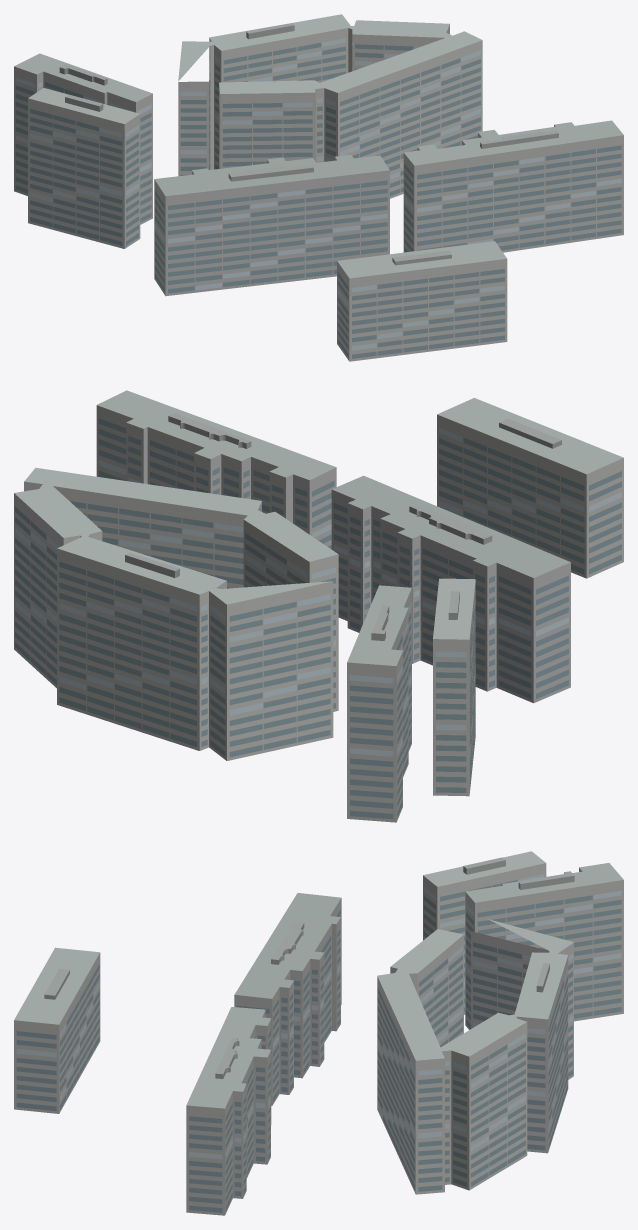
File: apt-a13607301.glb
The picture shows the model from 3 angles, top to bottom: view 1: azimuth 30°, elevation 25°; view 2: azimuth 150°, elevation 25°; view 3: azimuth 270°, elevation 25°; orthographic projection. The views are drawn at different scales.
Parts seen in each view (by area): view 1: apt-a13607301; view 2: apt-a13607301; view 3: apt-a13607301.
Boxes of the visible parts, x1,y1,x2,y2 form: apt-a13607301: (14, 14, 623, 361); apt-a13607301: (14, 390, 623, 822); apt-a13607301: (14, 851, 623, 1215).
Bounding box in the file's own units: 169 × 47.81 × 189.
